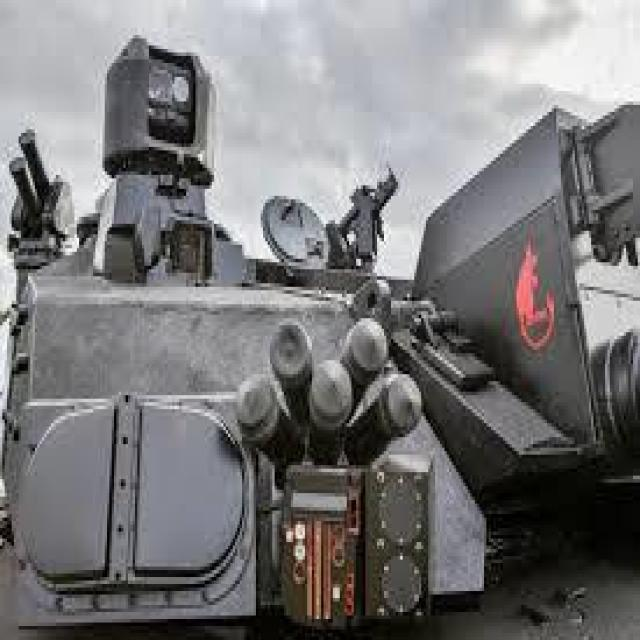MIL_MBT: (14, 58, 638, 635)
